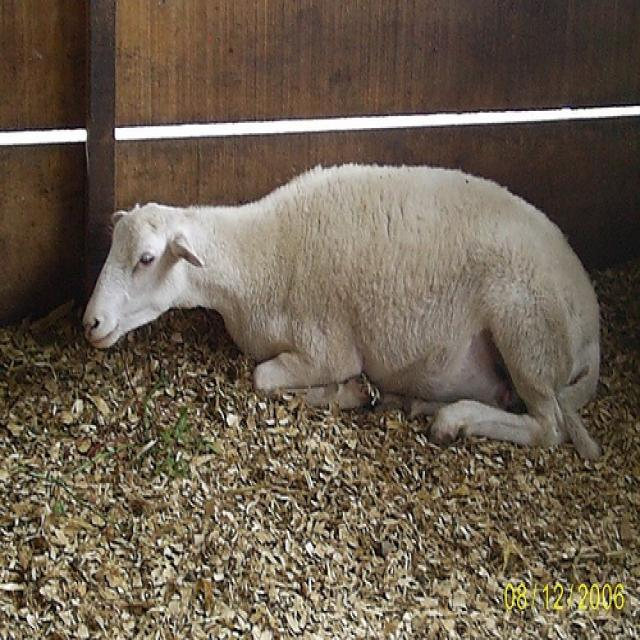sheep: (75, 160, 604, 460)
